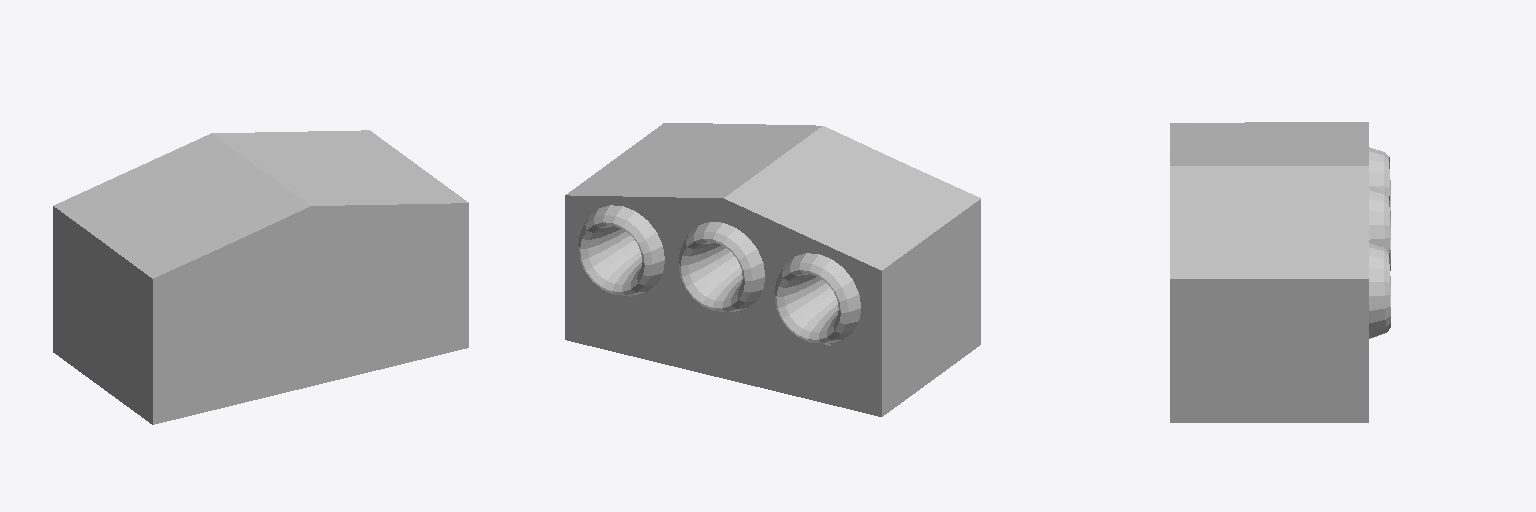
Rendered from canon.obj.
3 renders of one model, left to right at view 1: azimuth 30°, elevation 25°; view 2: azimuth 150°, elevation 25°; view 3: azimuth 270°, elevation 25°, orthographic.
Parts seen in each view (by area): view 1: pCube1; view 2: pCube1, pTorus2, pTorus3, pTorus1; view 3: pCube1, pTorus2, pTorus1, pTorus3.
Part boxes in pixels (x1,y1,x2,y2): pCube1: (53, 130, 468, 424); pCube1: (565, 123, 980, 416); pTorus2: (578, 205, 664, 295); pTorus3: (774, 253, 860, 343); pTorus1: (678, 222, 764, 311); pCube1: (1170, 122, 1368, 422); pTorus2: (1369, 243, 1390, 338); pTorus1: (1369, 186, 1390, 270); pTorus3: (1369, 147, 1390, 218).
Size of the model in its own units: 12.69 by 6.9 by 7.74.